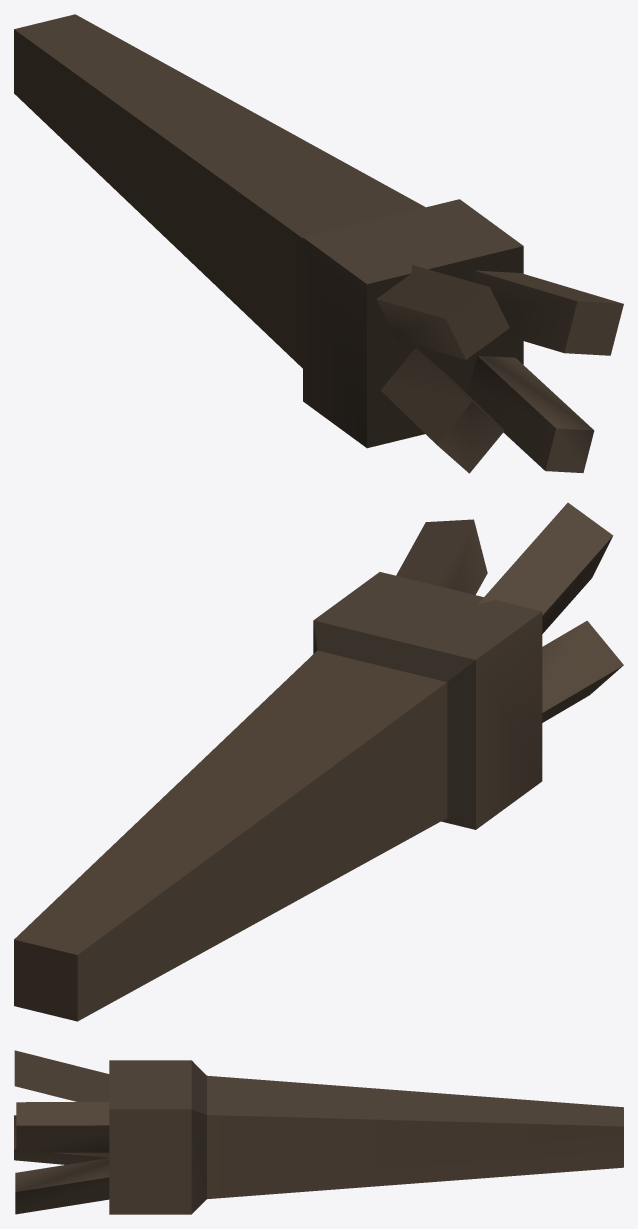
File: torch.fbx
3 renders of one model, top to bottom at view 1: azimuth 30°, elevation 25°; view 2: azimuth 150°, elevation 25°; view 3: azimuth 270°, elevation 25°, orthographic. The views are drawn at different scales.
Parts seen in each view (by area): view 1: torch; view 2: torch; view 3: torch.
Part boxes in pixels (left/top/right/bottom): torch: left=14, top=14, right=623, bottom=473; torch: left=14, top=502, right=623, bottom=1021; torch: left=14, top=1050, right=623, bottom=1214.
Bounding box in the file's own units: 0.7407 × 0.7836 × 3.22.
